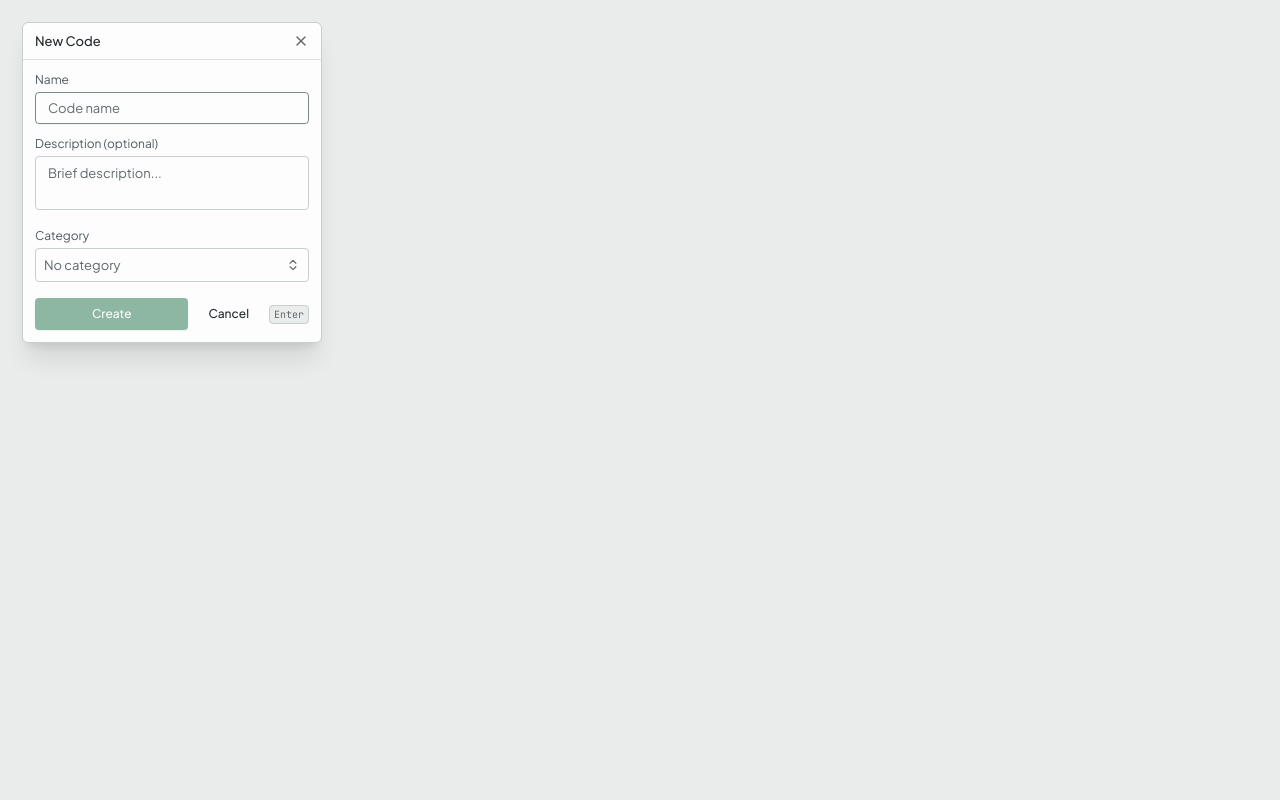
Test case: FloatingCreateCode › says nothing, and blocks nothing, while the list is unanswered
In the field with placeholder "Code name": [172, 108] box [35,92,309,124], type "Pacing"
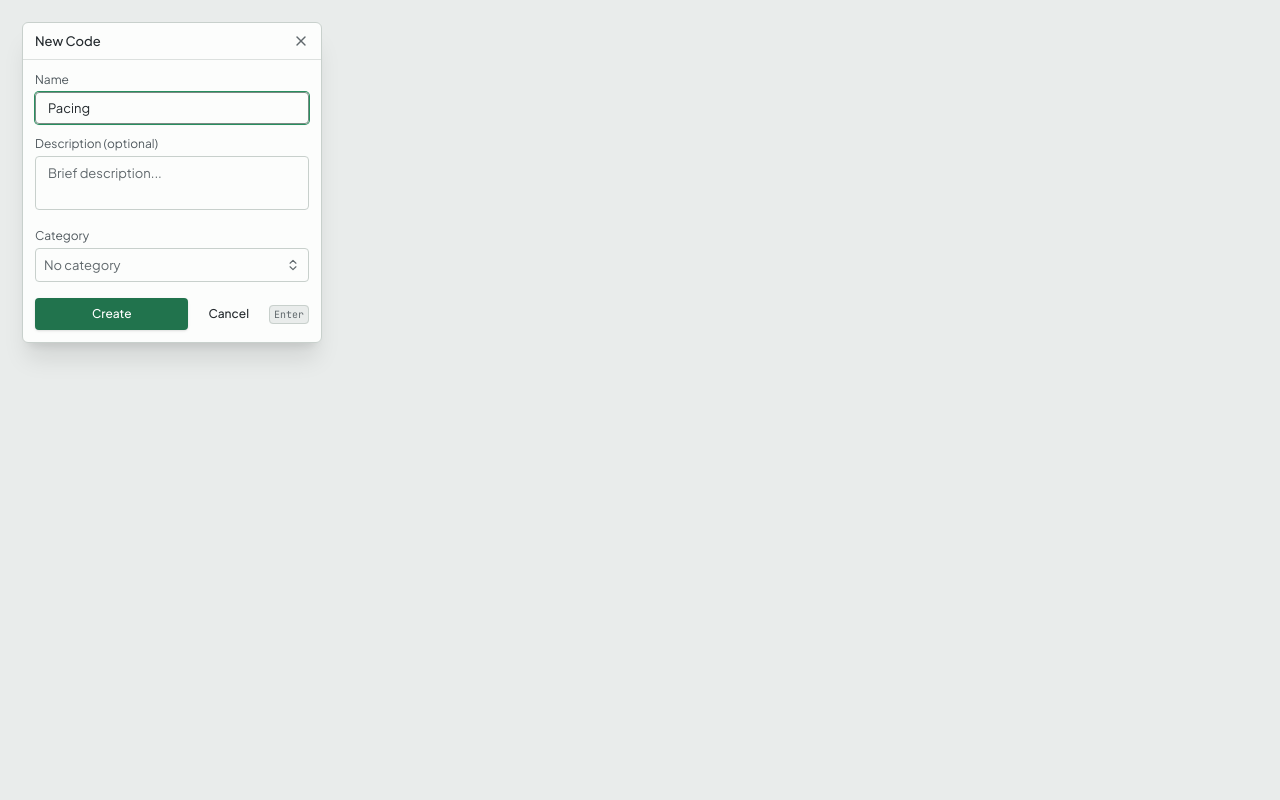
Expected: the button "Create" is enabled, [35,298,188,330]
